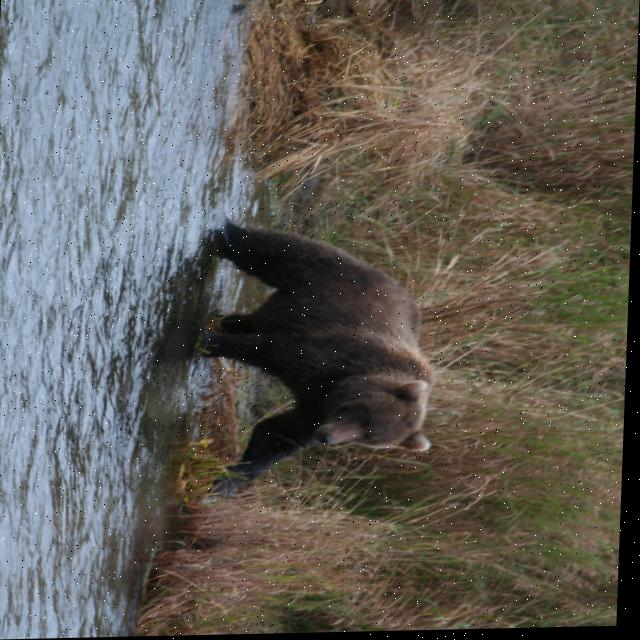bear face: (205, 231, 438, 489)
